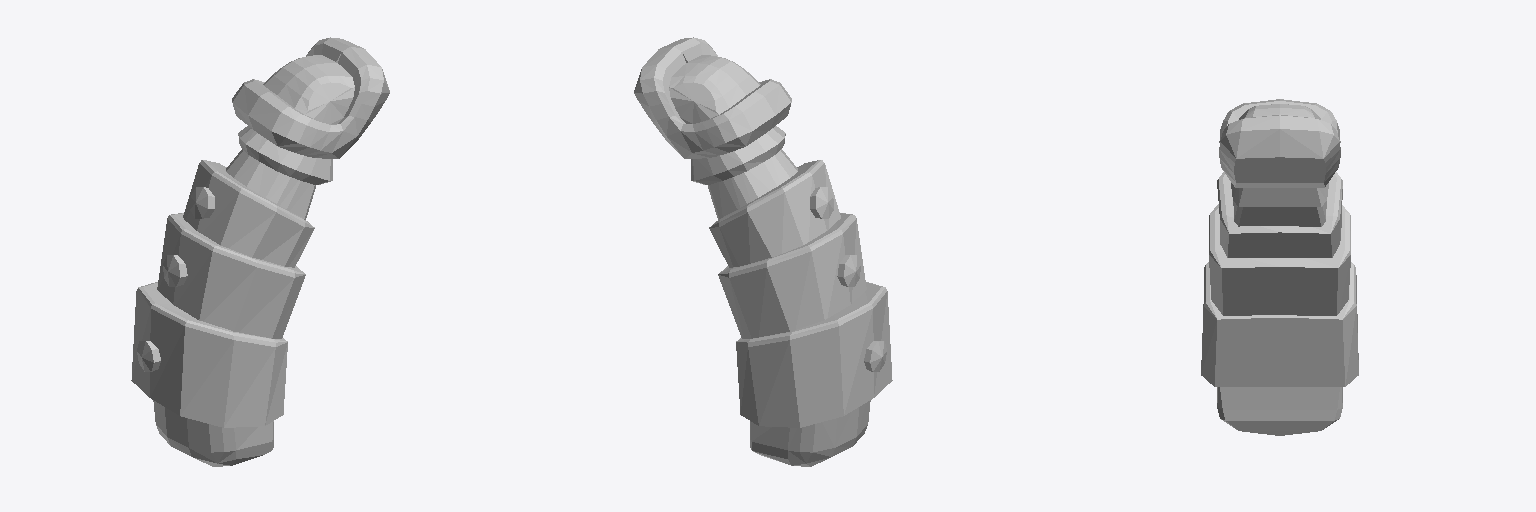
File: character_warriorArmRight.obj
3 views of the same model, side by side, from view 1: azimuth 30°, elevation 25°; view 2: azimuth 150°, elevation 25°; view 3: azimuth 270°, elevation 25° (orthographic).
Visible parts, largest first — view 1: character_warriorArmRight_Cube.6416; view 2: character_warriorArmRight_Cube.6416; view 3: character_warriorArmRight_Cube.6416.
Boxes of the visible parts, box(x1,y1,x2,y2) form: character_warriorArmRight_Cube.6416: box(131, 37, 389, 466); character_warriorArmRight_Cube.6416: box(634, 37, 892, 466); character_warriorArmRight_Cube.6416: box(1201, 99, 1358, 435).
Bounding box in the file's own units: 0.3744 × 0.583 × 0.224.